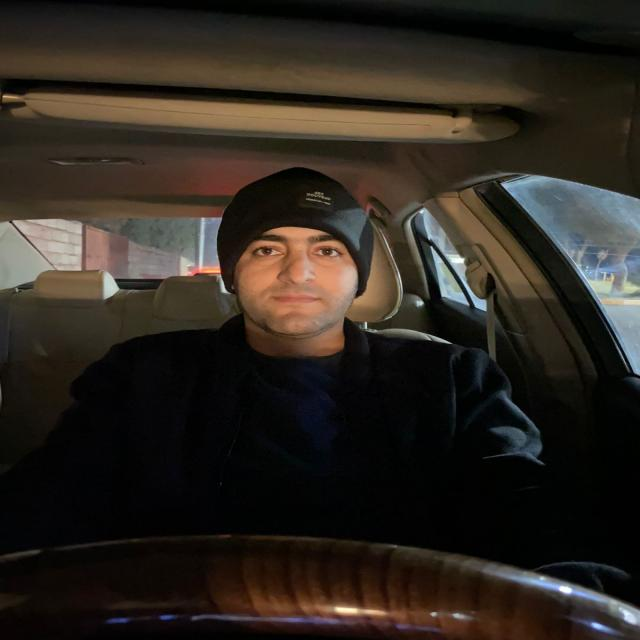person: (205, 155, 388, 361)
